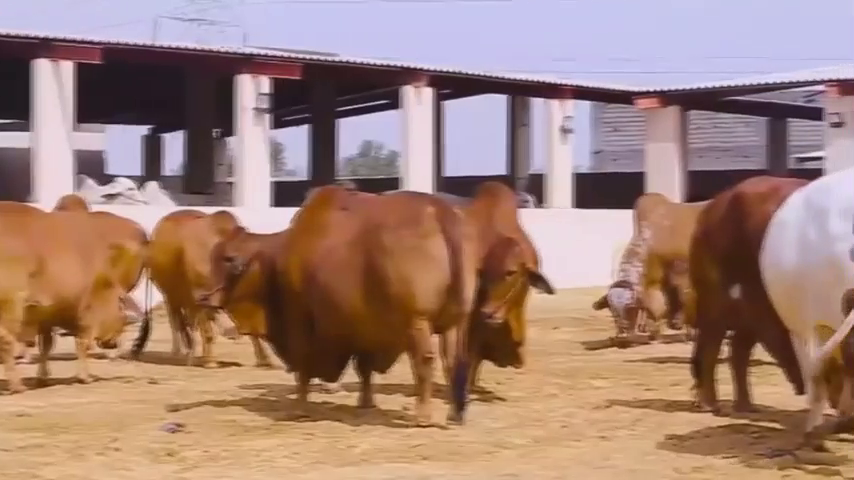bo: (188, 176, 473, 432), (674, 160, 854, 452), (5, 188, 147, 397), (432, 170, 564, 393), (134, 173, 272, 374), (578, 175, 710, 350)
